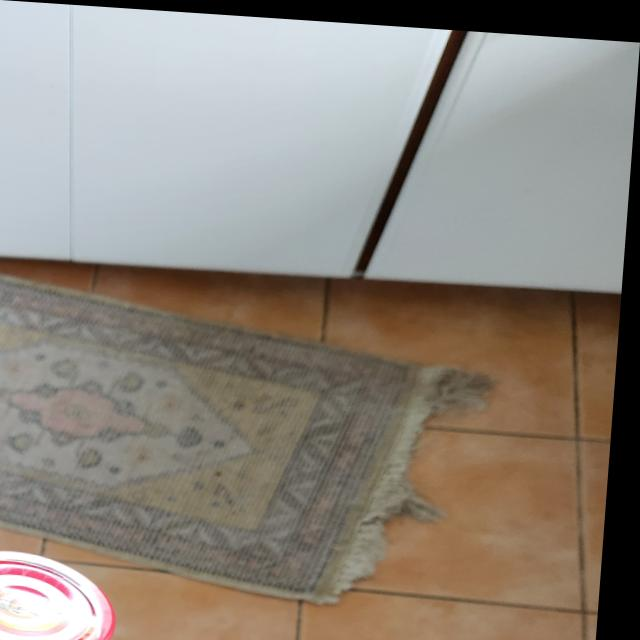hoison sauce: (0, 549, 131, 640)
